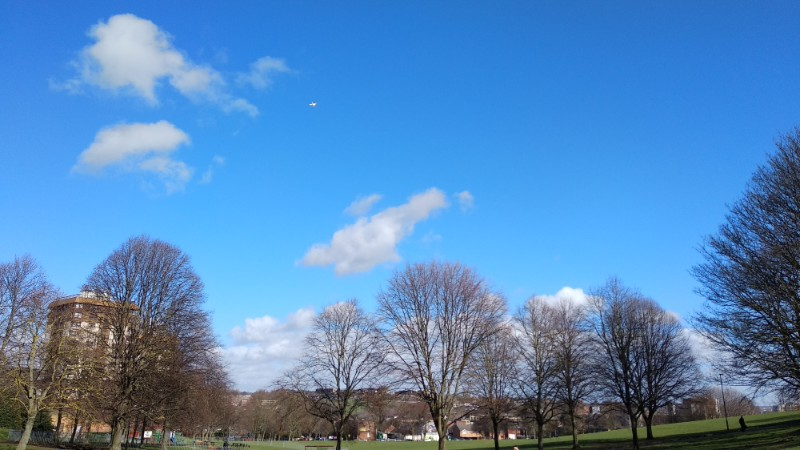drone: (308, 100, 317, 109)
